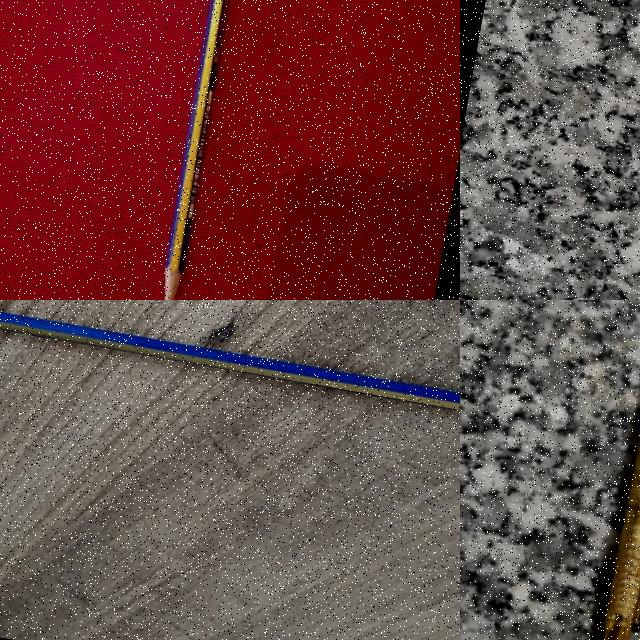pencil: (0, 312, 459, 409), (164, 0, 228, 299)
signature pen: (604, 440, 639, 639)
